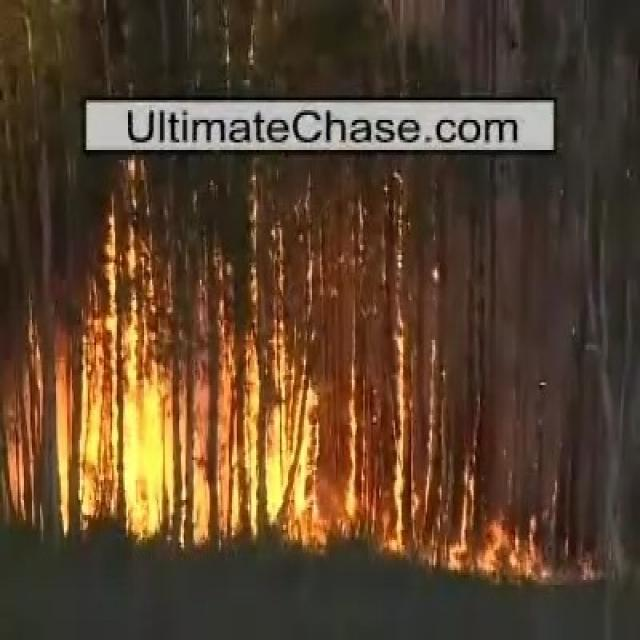fire: (125, 377, 172, 530), (267, 416, 315, 521)
